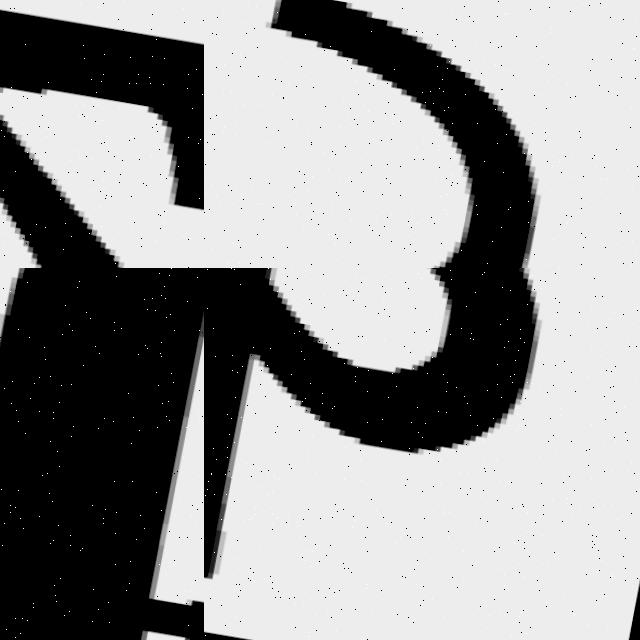2: (0, 0, 204, 268)
3: (204, 0, 582, 268)
K: (204, 268, 589, 638)
T: (0, 268, 204, 640)
